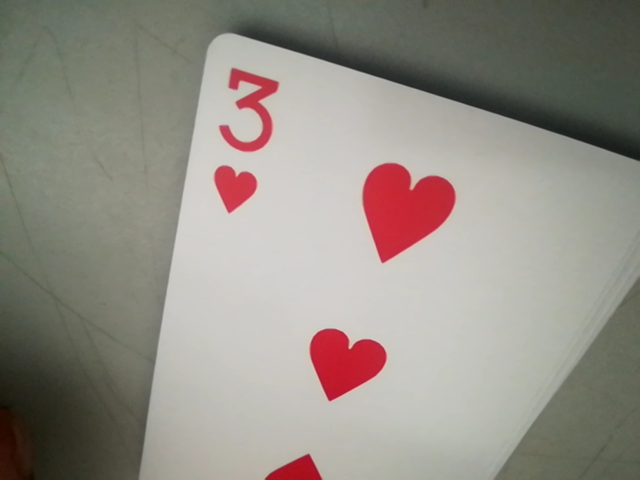hx 3: (203, 53, 282, 218)
